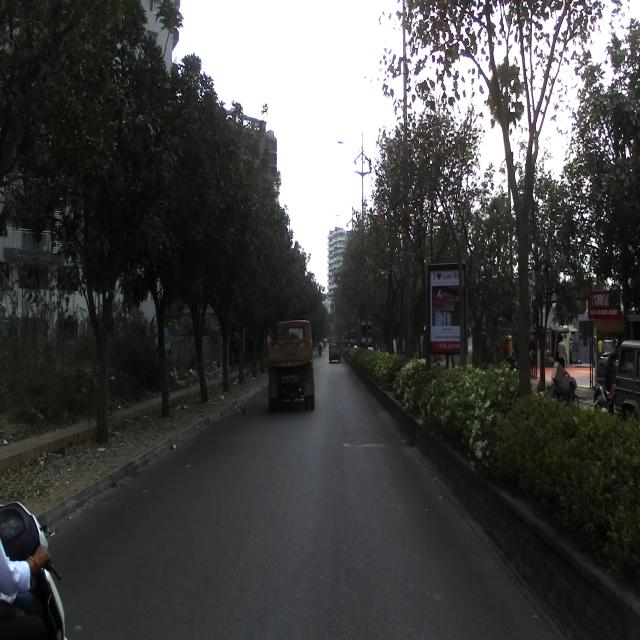tree ahead at: (66, 249, 122, 452), (152, 287, 180, 422)
truck ahead at: (264, 312, 320, 408)
